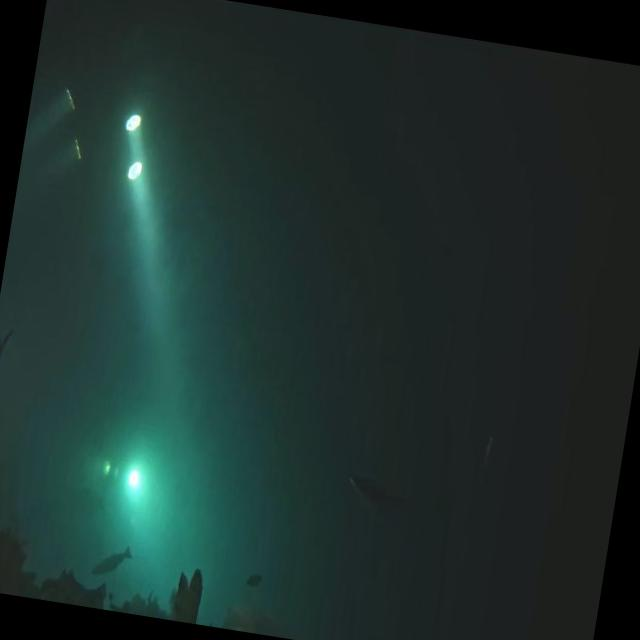fish: (342, 468, 413, 524), (90, 542, 136, 582), (478, 429, 498, 478), (244, 564, 266, 590)
